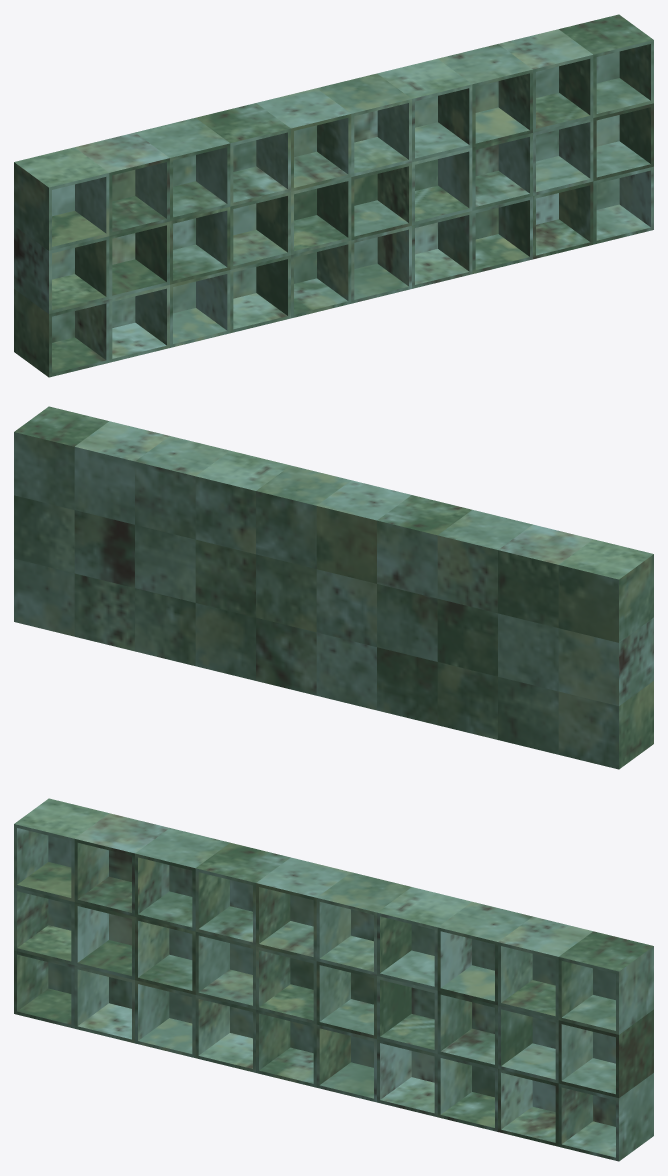
Rendered from class_room_cabinet.glb.
The picture shows the model from 3 angles, top to bottom: view 1: azimuth 30°, elevation 25°; view 2: azimuth 150°, elevation 25°; view 3: azimuth 330°, elevation 25°; orthographic projection.
Parts seen in each view (by area): view 1: 教室 ロッカー 1.001; view 2: 教室 ロッカー 1.001; view 3: 教室 ロッカー 1.001.
Boxes of the visible parts, <box> form: 教室 ロッカー 1.001: <box>14,14,653,377</box>; 教室 ロッカー 1.001: <box>14,406,653,769</box>; 教室 ロッカー 1.001: <box>14,798,653,1161</box>.
Bounding box in the file's own units: 4 × 1.2 × 0.4.
Materials: 1 (1 with a texture image).
